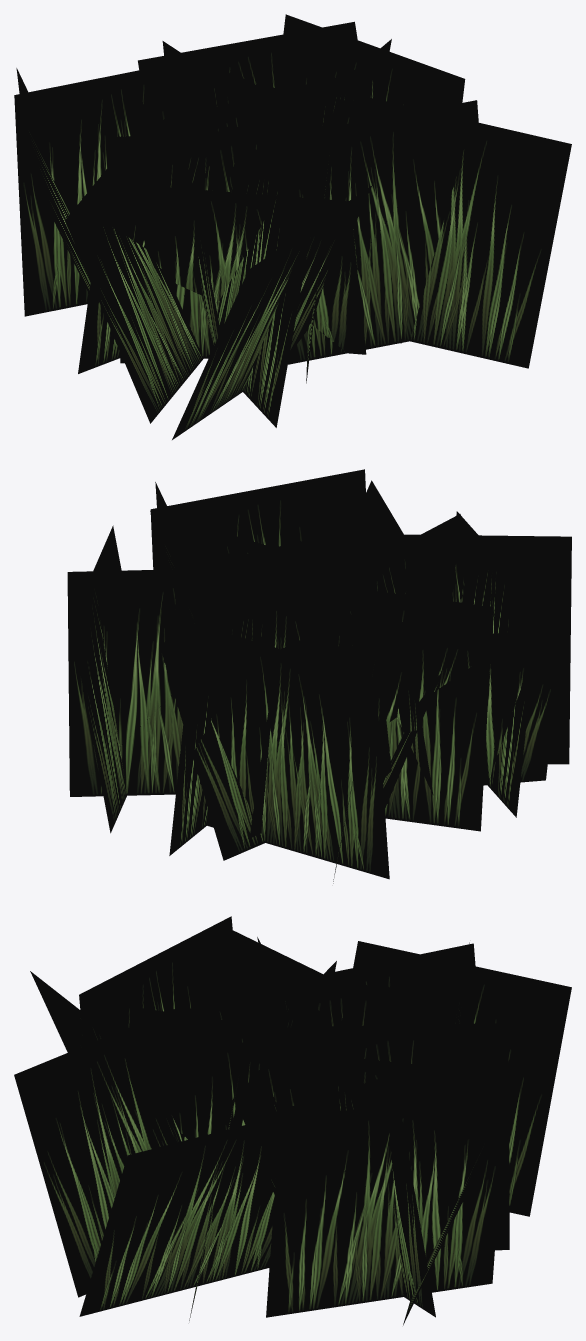
File: Grass_01_LOD01.FBX
3 views of the same model, one above another, from view 1: azimuth 30°, elevation 25°; view 2: azimuth 150°, elevation 25°; view 3: azimuth 270°, elevation 25° (orthographic). The views are drawn at different scales.
Visible parts, largest first — view 1: Grass_01_LOD01; view 2: Grass_01_LOD01; view 3: Grass_01_LOD01.
Part boxes in pixels (x1=…): Grass_01_LOD01: x1=14, y1=14, x2=571, y2=439; Grass_01_LOD01: x1=67, y1=469, x2=571, y2=883; Grass_01_LOD01: x1=14, y1=916, x2=571, y2=1325.
Size of the model in its own units: 2.25 by 0.9927 by 2.32.
Materials: 1 (1 with a texture image).
